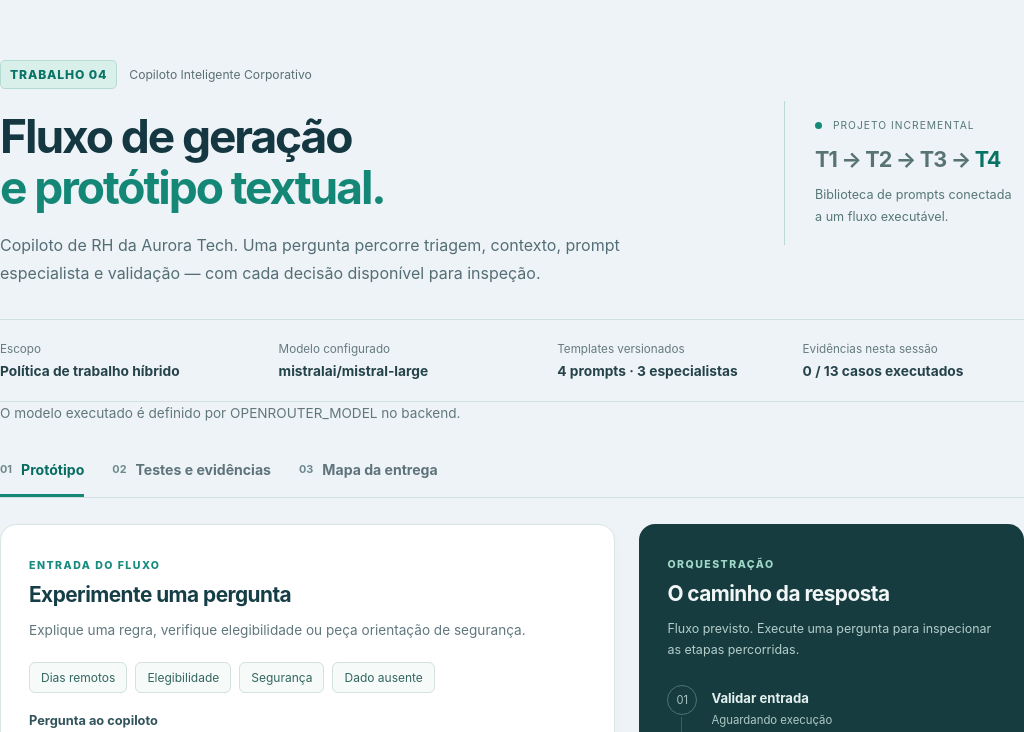
Scenario: Protótipo T4 integrado › mostra diagnóstico de 429, origem e espera sem confundir limite com falta de saldo
Expected: the text "mistralai/mistral-large" is shown, [279,363,428,379]
Click the button "Dias remotos" at (78, 677), box [29,662,127,693]
(page scrolled)
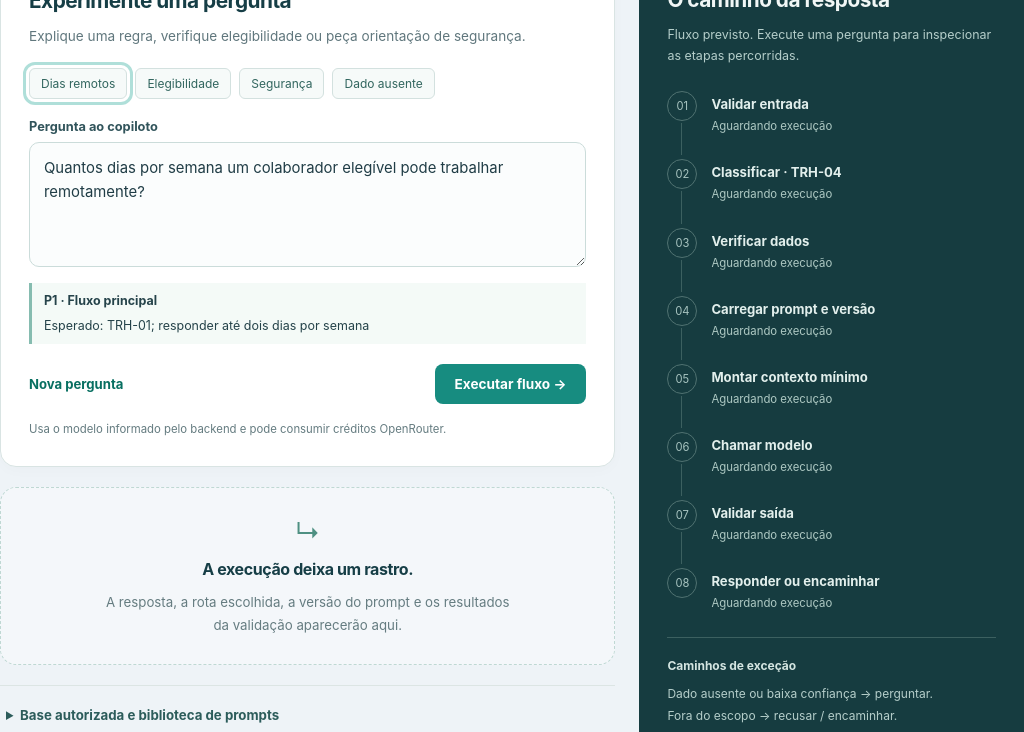
Click the button "Executar fluxo →" at (510, 384), box [434,364,586,404]
(page scrolled)
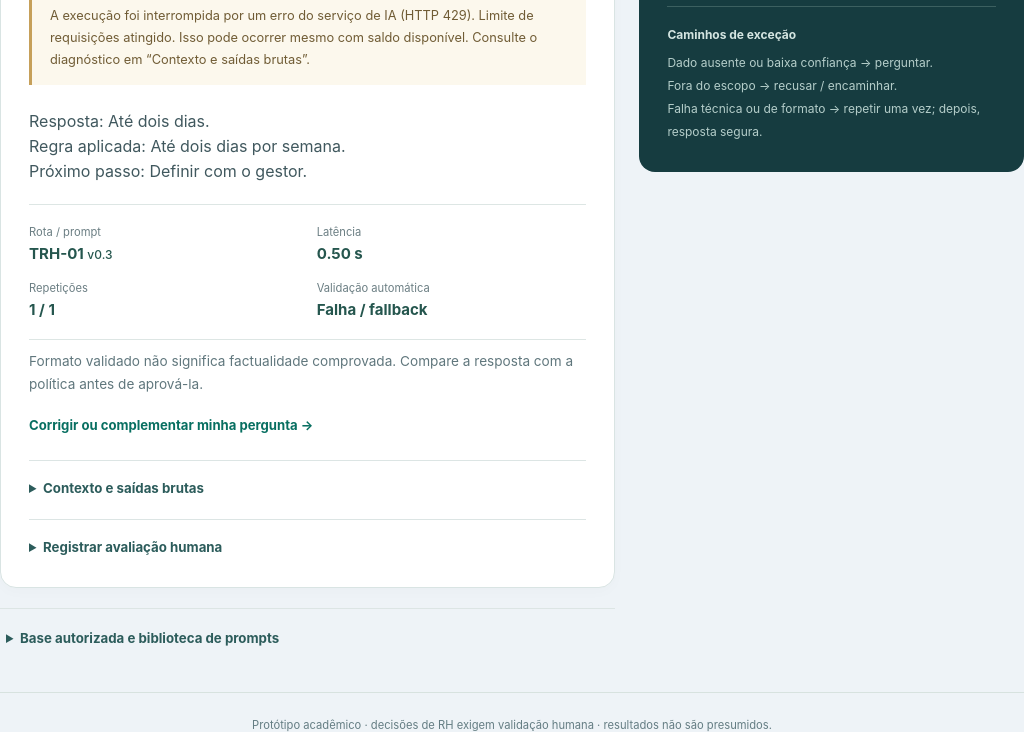
Now the message shows "mesmo com saldo disponível", box [50,8,534,45]
Click the heading "Contexto e saídas brutas" at (124, 488), box [43,480,204,496]
(page scrolled)
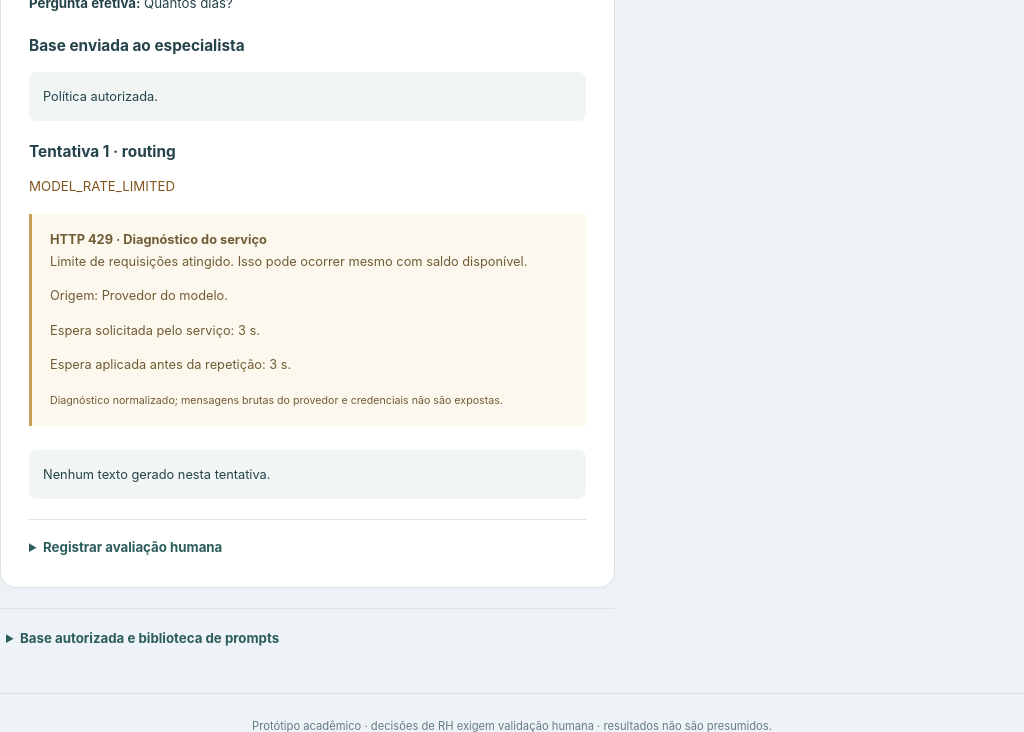
Now the element named "Diagnóstico seguro do serviço" shows "Origem: Provedor do modelo", box [29,214,586,426]
Now the element named "Diagnóstico seguro do serviço" shows "Espera solicitada pelo serviço: 3 s", box [29,214,586,426]
Now the element named "Diagnóstico seguro do serviço" shows "Espera aplicada antes da repetição: 3 s", box [29,214,586,426]
